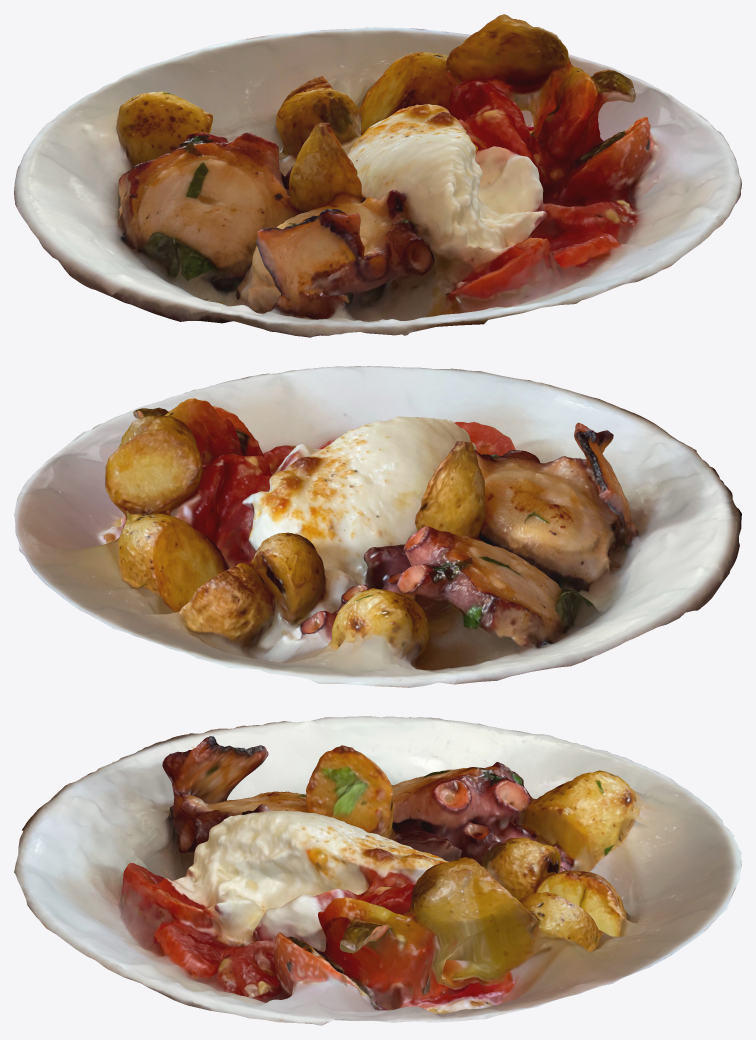
Rendered from ahtopot.glb.
3 renders of one model, top to bottom at view 1: azimuth 30°, elevation 25°; view 2: azimuth 150°, elevation 25°; view 3: azimuth 270°, elevation 25°, orthographic.
Parts seen in each view (by area): view 1: Object_4; view 2: Object_4; view 3: Object_4.
Part boxes in pixels (x1,y1,x2,y2): Object_4: [14, 14, 741, 337]; Object_4: [14, 366, 741, 687]; Object_4: [14, 716, 741, 1025].
Size of the model in its own units: 0.2928 by 0.0661 by 0.291.
1 material, 1 textured.
